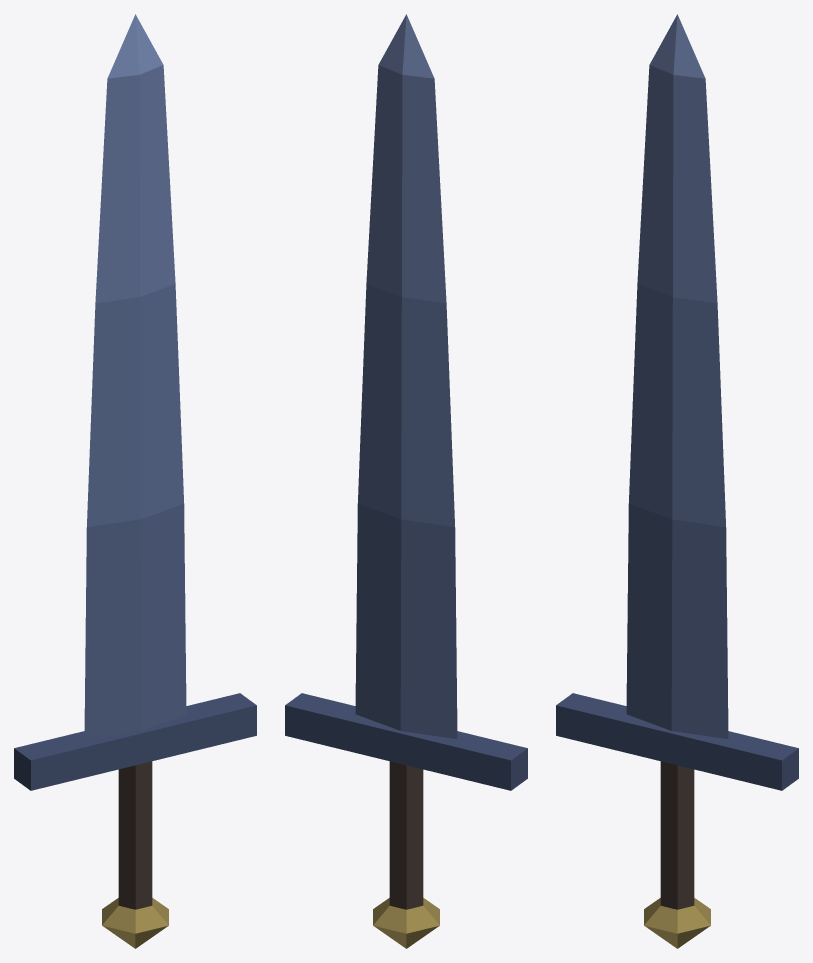
The model's file is sword_broad_mithril_s1031.glb.
3 views of the same model, side by side, from view 1: azimuth 30°, elevation 25°; view 2: azimuth 150°, elevation 25°; view 3: azimuth 330°, elevation 25° (orthographic).
Parts seen in each view (by area): view 1: sword_broad_mithril_s1031; view 2: sword_broad_mithril_s1031; view 3: sword_broad_mithril_s1031.
Boxes of the visible parts, box(x1,y1,x2,y2) form: sword_broad_mithril_s1031: box(14, 14, 256, 948); sword_broad_mithril_s1031: box(285, 14, 527, 948); sword_broad_mithril_s1031: box(556, 14, 798, 948).
Bounding box in the file's own units: 0.2023 × 0.7995 × 0.052.
1 material, 1 textured.
